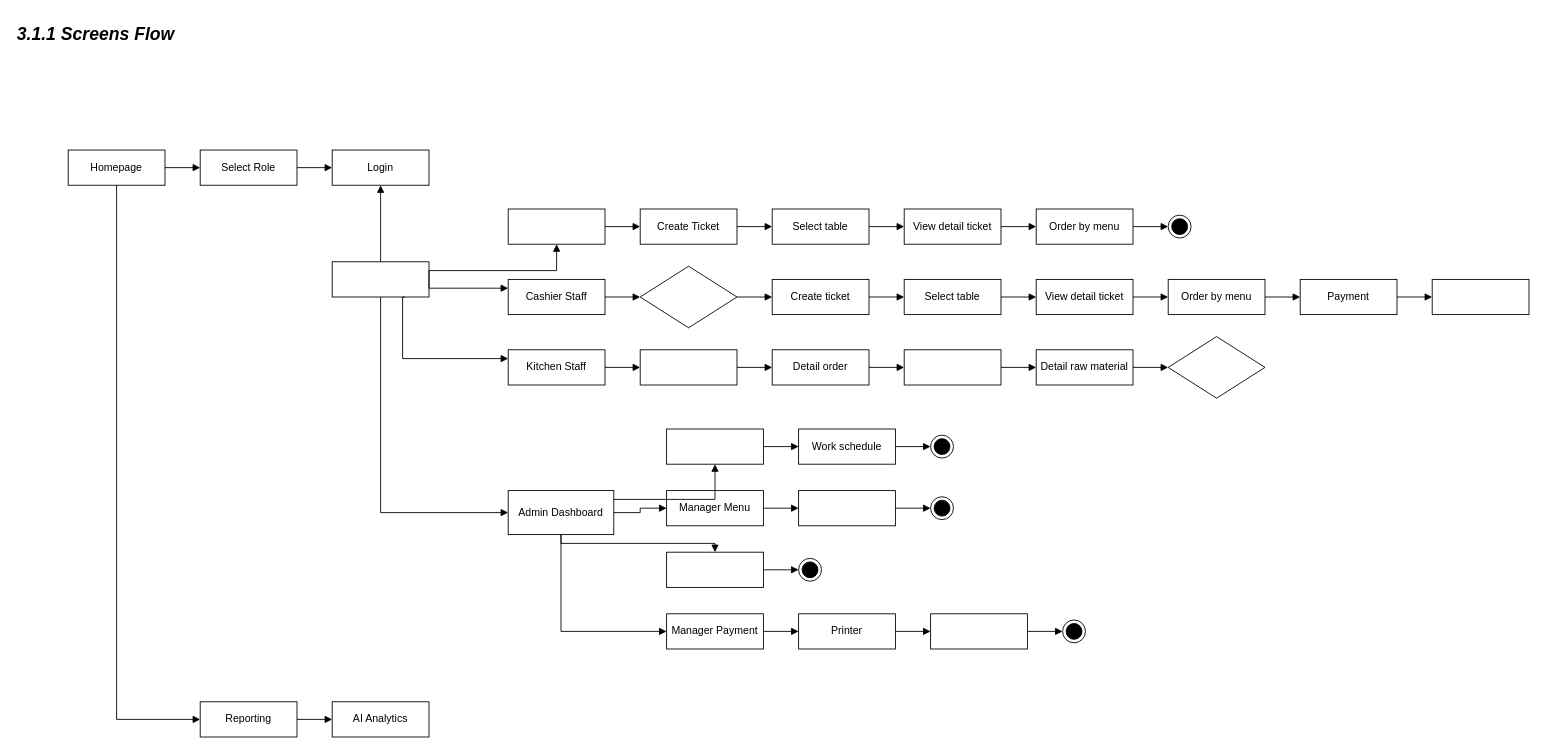
The diagram is 1544 pixels wide and 752 high, and some of its shapes have lost their labels. Each missing label, with the box of its shape:
Detail food: (798, 490, 895, 526)
Lock food: (1167, 336, 1265, 398)
Manager Area: (666, 551, 763, 587)
Manager Staff: (666, 428, 763, 464)
Order Staff: (507, 208, 605, 244)
Raw material order: (903, 349, 1001, 385)
Reservation: (639, 265, 737, 328)
Tax/Service: (930, 613, 1027, 649)
Transaction: (1431, 279, 1529, 315)
User Login: (331, 261, 429, 297)
View order list: (639, 349, 737, 385)
